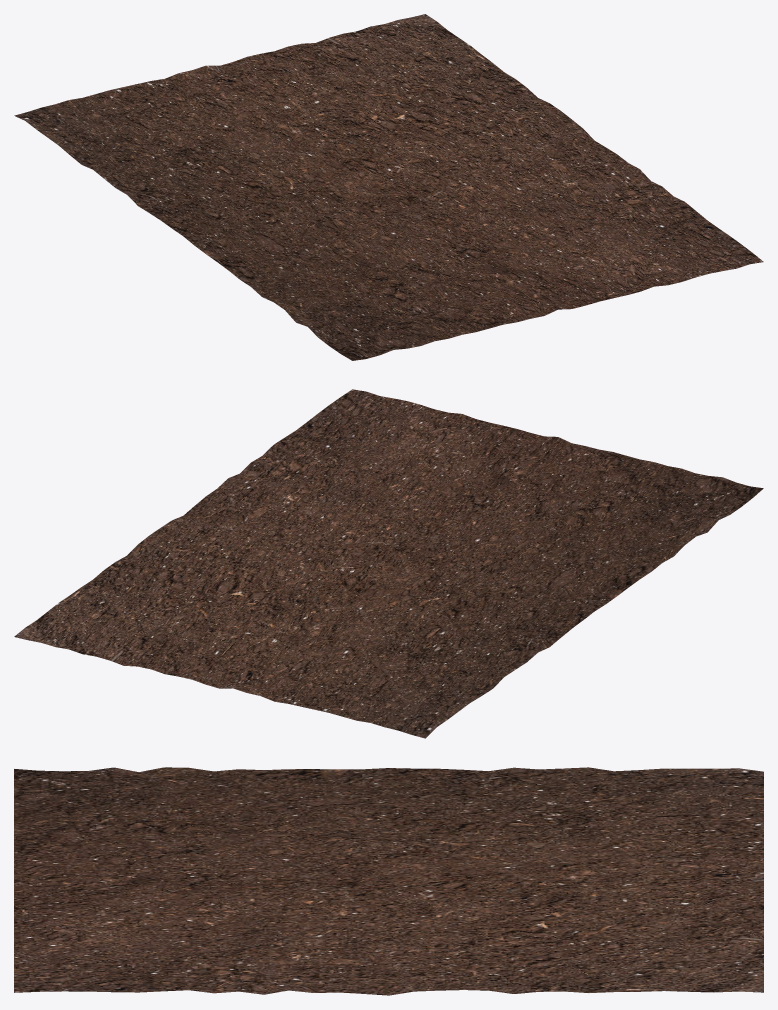
Rendered from TierraText.fbx.
3 views of the same model, one above another, from view 1: azimuth 30°, elevation 25°; view 2: azimuth 150°, elevation 25°; view 3: azimuth 270°, elevation 25° (orthographic). The views are drawn at different scales.
Visible parts, largest first — view 1: Plane009; view 2: Plane009; view 3: Plane009.
Boxes of the visible parts, left/top/right/bottom form: Plane009: left=14, top=14, right=763, bottom=360; Plane009: left=14, top=389, right=763, bottom=738; Plane009: left=14, top=767, right=763, bottom=995.
Size of the model in its own units: 3.02 by 0.042 by 4.31.
